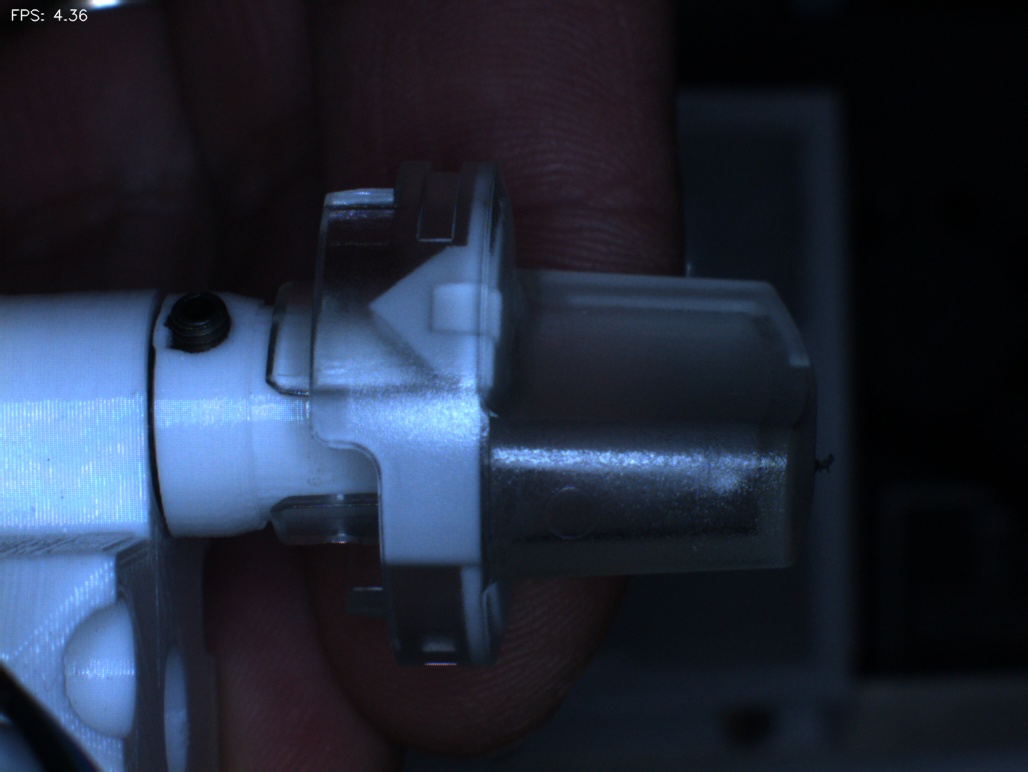DentOk: (343, 278, 418, 362)
